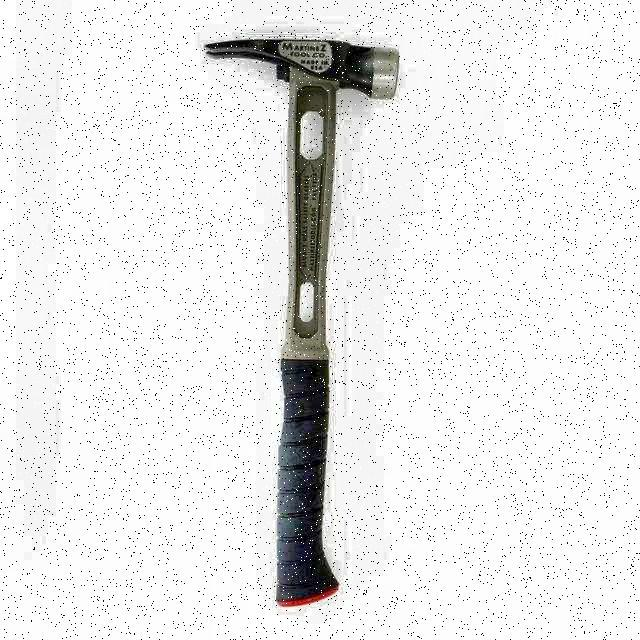hammer: (206, 35, 399, 607)
